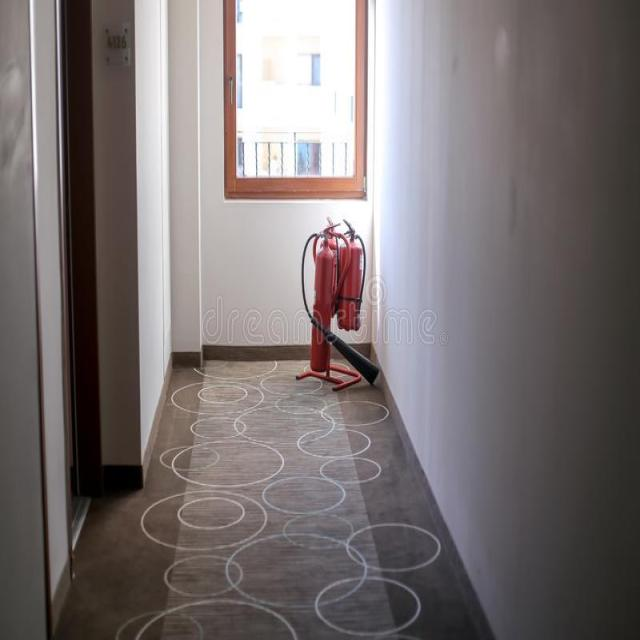fire_extinguisher: (295, 229, 382, 392), (335, 217, 368, 332), (320, 212, 341, 320)
